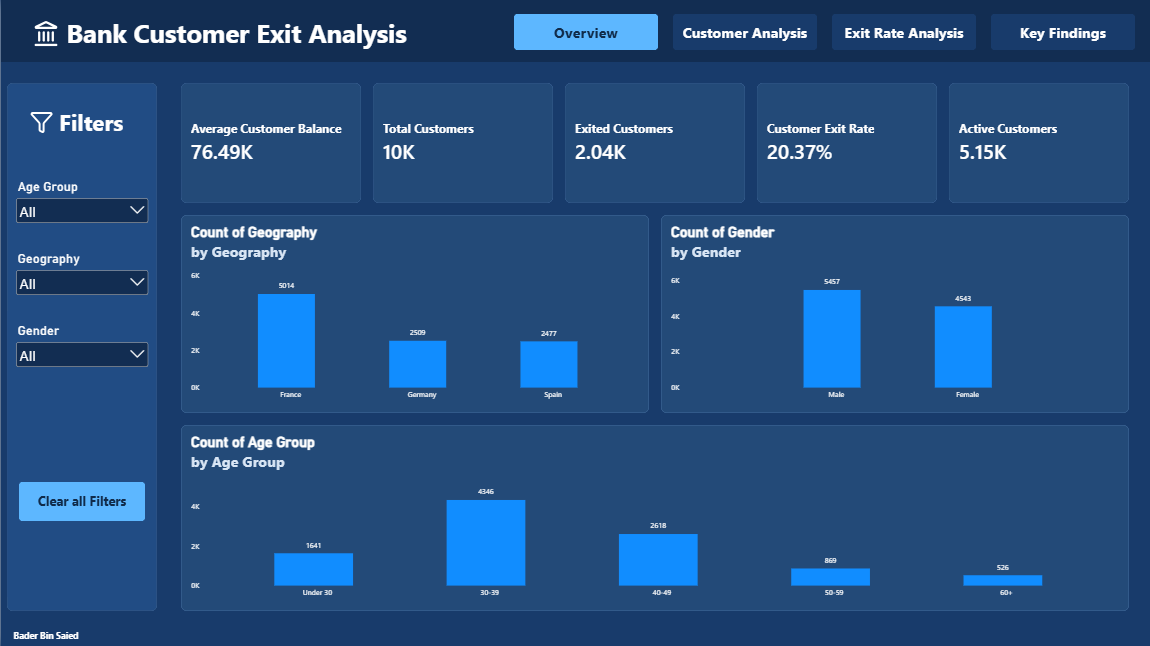

What the dashboard file says about the page in this screenshot:
{"tool":"powerbi","page":{"name":"Overview","canvas":[1920,1080],"ordinal":0},"visuals":[{"type":"shape","box":[10,140,250,880],"z":0},{"type":"slicer","fields":{"Values":["Churn_Modelling.Geography"]},"box":[20,420,230,75],"z":9000},{"type":"slicer","fields":{"Values":["Churn_Modelling.Gender"]},"box":[20,540,230,75],"z":10000},{"type":"slicer","fields":{"Values":["Churn_Modelling.Age Group"]},"box":[20,300,230,75],"z":11000},{"type":"shape","box":[0,0,1920,105],"z":12000,"group":"g1"},{"type":"textbox","box":[80,180,140.9,60],"z":12000},{"type":"actionButton","box":[855,25,240,60],"z":13000,"group":"g1"},{"type":"image","box":[25,185,85,40],"z":13000},{"type":"actionButton","box":[1120,25,240,60],"z":14000,"group":"g1"},{"type":"actionButton","box":[30,805,210,65],"z":14000},{"type":"group","id":"g1","title":"Group 1","box":[0,0,1920,105],"z":15000},{"type":"actionButton","box":[1385,25,240,60],"z":15000,"group":"g1"},{"type":"cardVisual","fields":{"Data":["Measures (2).Average Customer Balance"]},"box":[300,140,300,200],"z":15500},{"type":"textbox","box":[103,28,580,60],"z":16000,"group":"g1"},{"type":"cardVisual","fields":{"Data":["Measures (2).Total Customers"]},"box":[620,140,300,200],"z":16000},{"type":"cardVisual","fields":{"Data":["Measures (2).Exited Customers"]},"box":[940,140,300,200],"z":16500},{"type":"cardVisual","fields":{"Data":["Measures (2).Churn Rate"]},"box":[1260,140,300,200],"z":17000},{"type":"cardVisual","fields":{"Data":["Measures (1).Active Customers"]},"box":[1580,140,300,200],"z":17500},{"type":"columnChart","fields":{"Category":["Churn_Modelling.Geography"],"Y":["CountNonNull(Churn_Modelling.Geography)"]},"box":[300,360,780,330],"z":18000},{"type":"columnChart","fields":{"Category":["Churn_Modelling.Gender"],"Y":["CountNonNull(Churn_Modelling.Gender)"]},"box":[1100,360,780,330],"z":18500},{"type":"image","box":[25,35,100,45],"z":19000,"group":"g1"},{"type":"columnChart","fields":{"Category":["Churn_Modelling.Age Group"],"Y":["CountNonNull(Churn_Modelling.Age Group)"]},"box":[300,710,1580,310],"z":19000},{"type":"textbox","box":[5,1050,140,30],"z":19001},{"type":"actionButton","box":[1650,25,240,60],"z":20000,"group":"g1"}]}

Visuals, with their boxes in screenshot pixels (x1, y1, x2, y2), scaled from the page's 1920x1080 canvas onto the 1150x646 screenshot:
shape: Rect(6, 84, 156, 610)
slicer - Churn_Modelling.Geography: Rect(12, 251, 150, 296)
slicer - Churn_Modelling.Gender: Rect(12, 323, 150, 368)
slicer - Churn_Modelling.Age Group: Rect(12, 179, 150, 224)
shape: Rect(0, 0, 1149, 63)
textbox: Rect(48, 108, 132, 144)
actionButton: Rect(512, 15, 656, 51)
image: Rect(15, 111, 66, 135)
actionButton: Rect(671, 15, 815, 51)
actionButton: Rect(18, 482, 144, 520)
"Group 1" group: Rect(0, 0, 1149, 63)
actionButton: Rect(830, 15, 973, 51)
cardVisual - Measures (2).Average Customer Balance: Rect(180, 84, 359, 203)
textbox: Rect(62, 17, 409, 53)
cardVisual - Measures (2).Total Customers: Rect(371, 84, 551, 203)
cardVisual - Measures (2).Exited Customers: Rect(563, 84, 743, 203)
cardVisual - Measures (2).Churn Rate: Rect(755, 84, 934, 203)
cardVisual - Measures (1).Active Customers: Rect(946, 84, 1126, 203)
columnChart - Churn_Modelling.Geography x CountNonNull(Churn_Modelling.Geography): Rect(180, 215, 647, 413)
columnChart - Churn_Modelling.Gender x CountNonNull(Churn_Modelling.Gender): Rect(659, 215, 1126, 413)
image: Rect(15, 21, 75, 48)
columnChart - Churn_Modelling.Age Group x CountNonNull(Churn_Modelling.Age Group): Rect(180, 425, 1126, 610)
textbox: Rect(3, 628, 87, 645)
actionButton: Rect(988, 15, 1132, 51)
